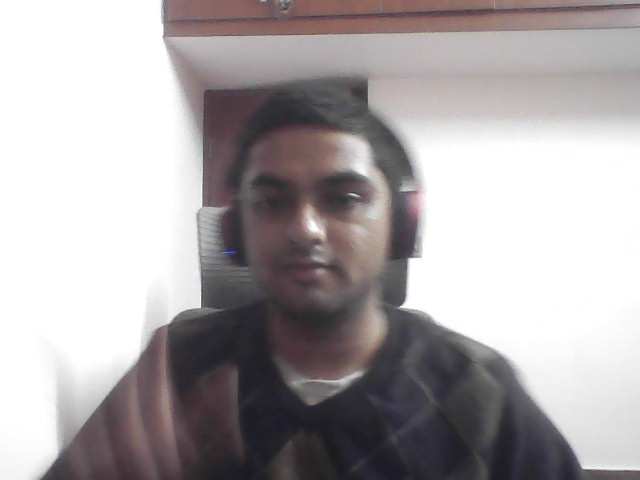I Love You: (47, 303, 281, 480)
